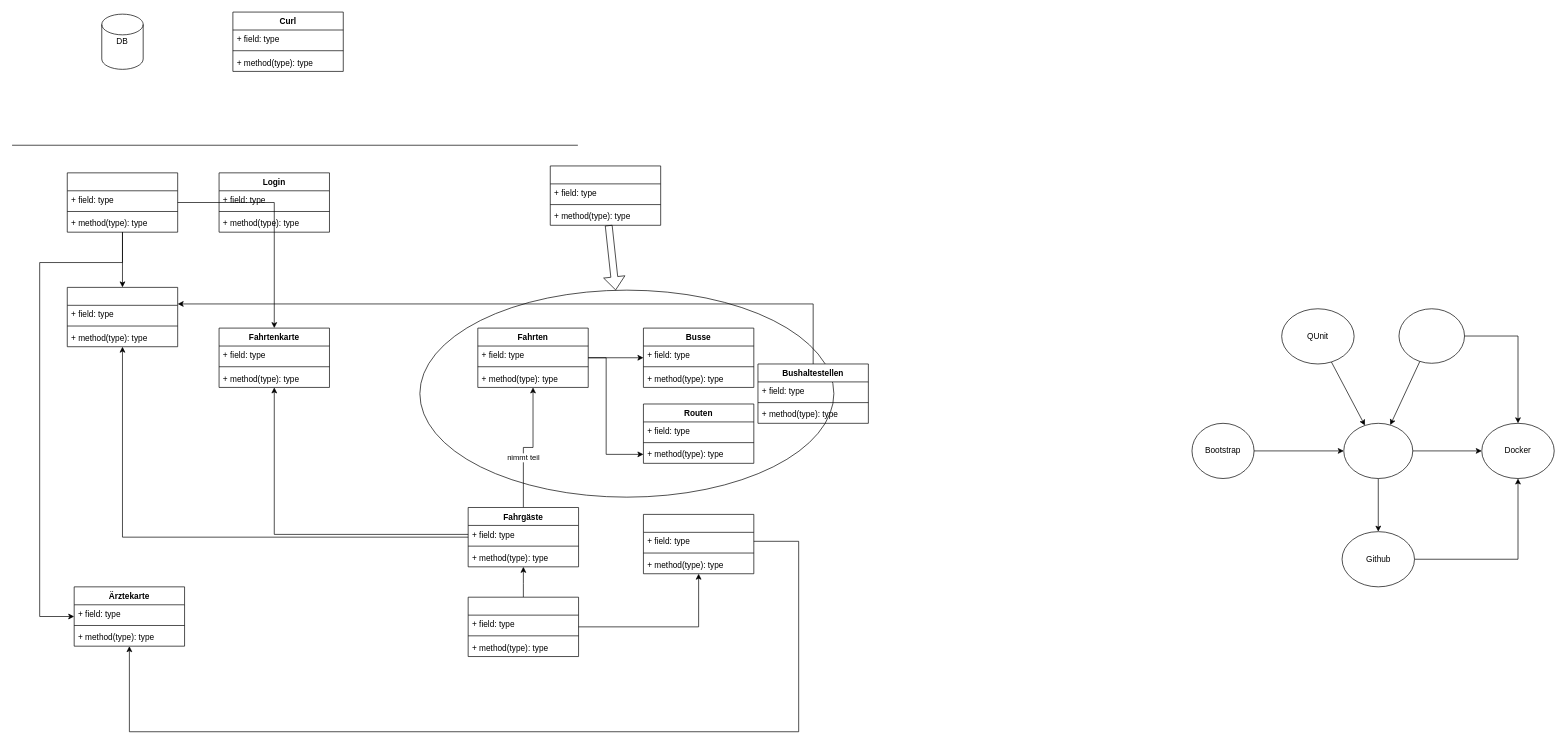
Some shapes in this 1566 by 749 pixel diagram are drawn without their labels. The box of each missing label's shape, as (x1, y1, x2, y2) in pixels:
API Interface: (550, 165, 661, 225)
Auswahlkarte: (67, 287, 178, 347)
Benutzer: (467, 597, 579, 657)
Map Interface: (67, 172, 178, 232)
MongoDB: (1398, 308, 1465, 363)
Node.js: (1343, 423, 1413, 479)
Ärzte: (643, 514, 754, 574)
